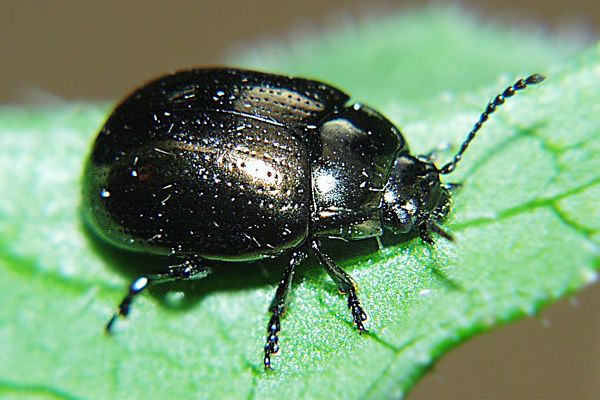Chrysolina_oricalcia: (74, 45, 544, 374)
